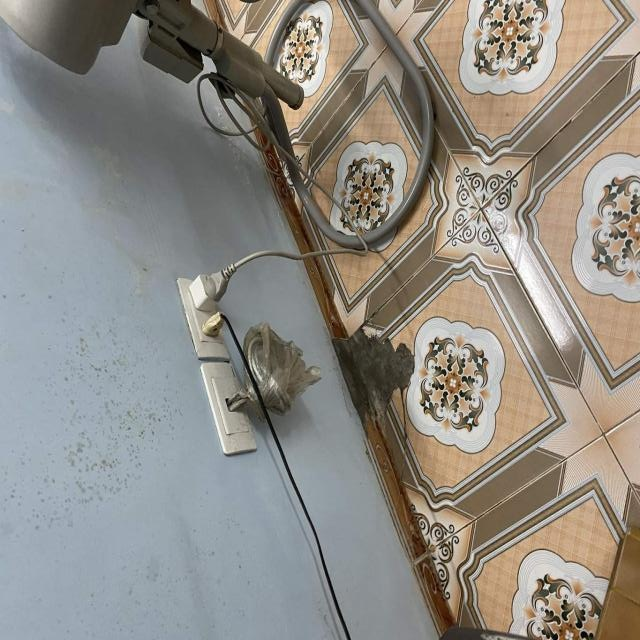outlet: (200, 363, 257, 457), (176, 276, 231, 360)
